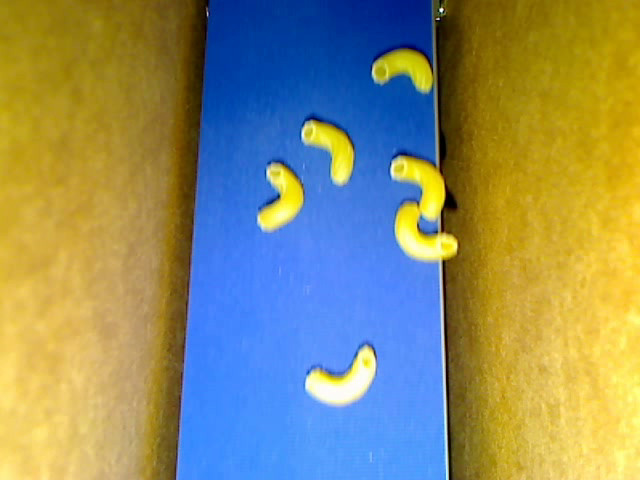elbow: (305, 343, 377, 408), (389, 153, 446, 222), (394, 201, 458, 261), (300, 119, 355, 186), (256, 162, 304, 230), (372, 48, 432, 93)
